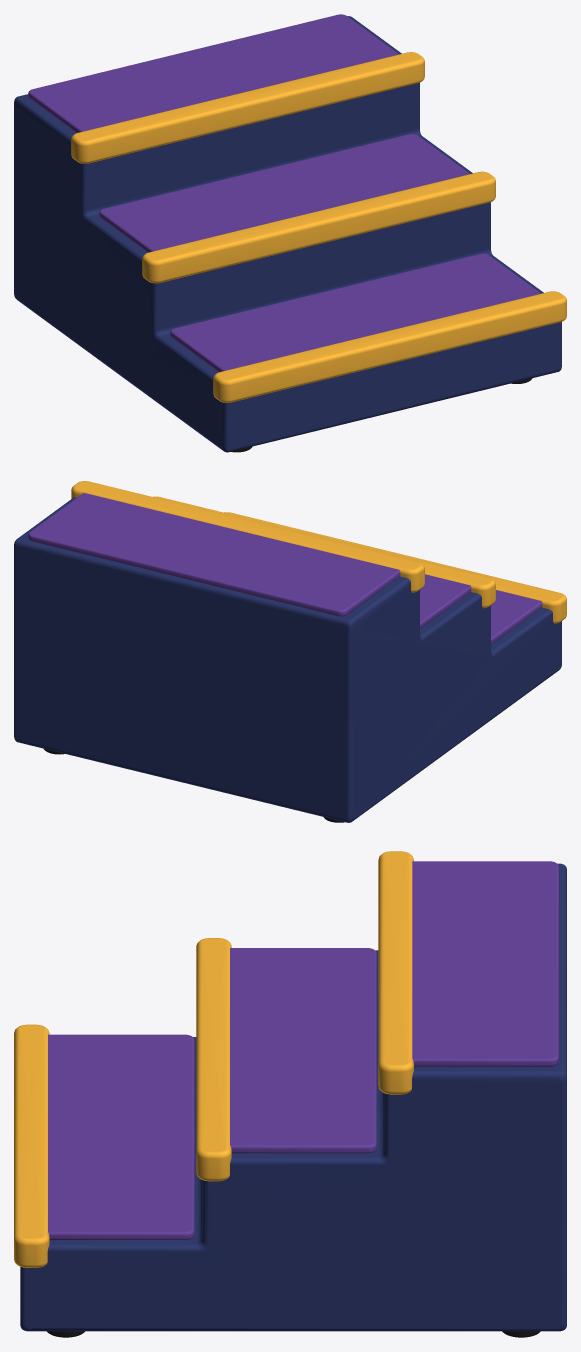
File: StageStairs.glb
The picture shows the model from 3 angles, top to bottom: view 1: azimuth 30°, elevation 25°; view 2: azimuth 150°, elevation 25°; view 3: azimuth 270°, elevation 25°; orthographic projection. The views are drawn at different scales.
Visible parts, largest first — view 1: ContinuousBlueStairBody, PurpleTread1, PurpleTread3, PurpleTread2, GoldNose2, GoldNose3, GoldNose1; view 2: ContinuousBlueStairBody, PurpleTread3, GoldNose3, GoldNose2, GoldNose1, PurpleTread1, PurpleTread2; view 3: ContinuousBlueStairBody, PurpleTread3, PurpleTread1, PurpleTread2, GoldNose3, GoldNose2, GoldNose1.
Boxes of the visible parts, x1,y1,x2,y2 form: ContinuousBlueStairBody: (14,16,561,452); PurpleTread1: (170,253,540,372); PurpleTread3: (28,14,398,132); PurpleTread2: (99,134,469,252); GoldNose2: (142,171,495,283); GoldNose3: (71,52,424,163); GoldNose1: (213,291,566,402); ContinuousBlueStairBody: (14,497,561,822); PurpleTread3: (28,493,400,616); GoldNose3: (71,481,424,592); GoldNose2: (153,496,495,608); GoldNose1: (224,512,566,623); PurpleTread1: (491,590,542,644); PurpleTread2: (420,574,471,628); ContinuousBlueStairBody: (20,863,566,1331); PurpleTread3: (412,861,558,1066); PurpleTread1: (48,1034,194,1239); PurpleTread2: (230,948,376,1153); GoldNose3: (378,851,413,1094); GoldNose2: (196,938,231,1181); GoldNose1: (14,1024,49,1267).
Bounding box in the file's own units: 1.13 × 0.687 × 1.21.
7 materials, 7 textured.
